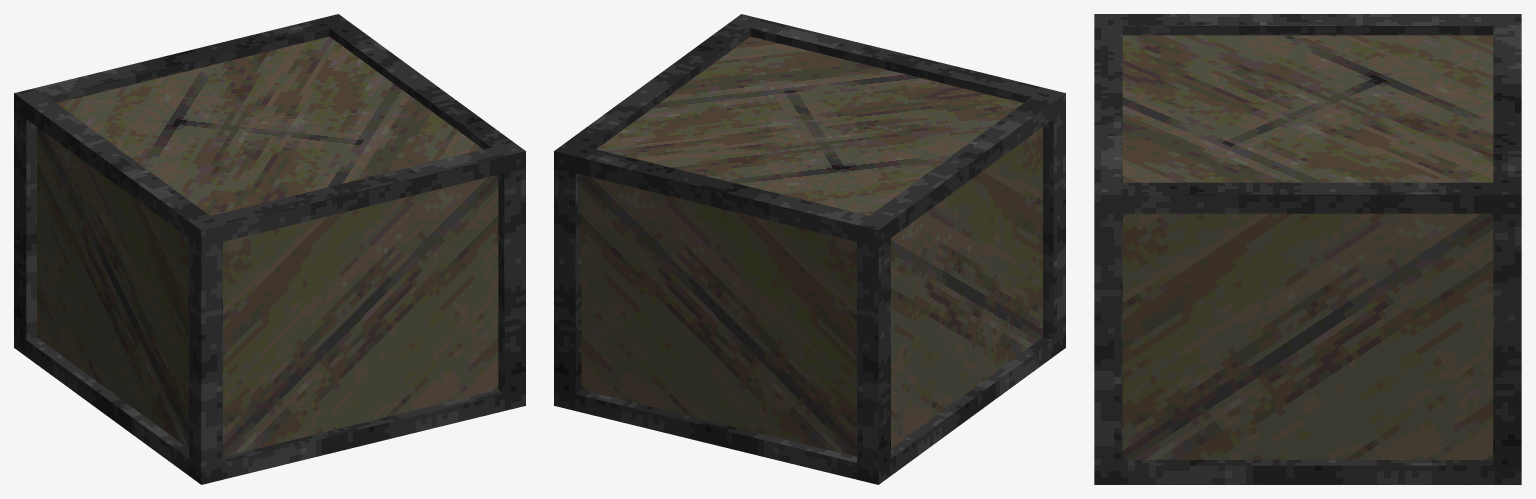
Rendered from crate_03.gltf.
3 views of the same model, side by side, from view 1: azimuth 30°, elevation 25°; view 2: azimuth 150°, elevation 25°; view 3: azimuth 270°, elevation 25° (orthographic). The views are drawn at different scales.
Visible parts, largest first — view 1: crate_03; view 2: crate_03; view 3: crate_03.
Boxes of the visible parts, x1,y1,x2,y2 form: crate_03: [14, 14, 525, 484]; crate_03: [554, 14, 1065, 484]; crate_03: [1094, 14, 1521, 484].
Size of the model in its own units: 1 by 0.75 by 1.
1 material, 1 textured.
